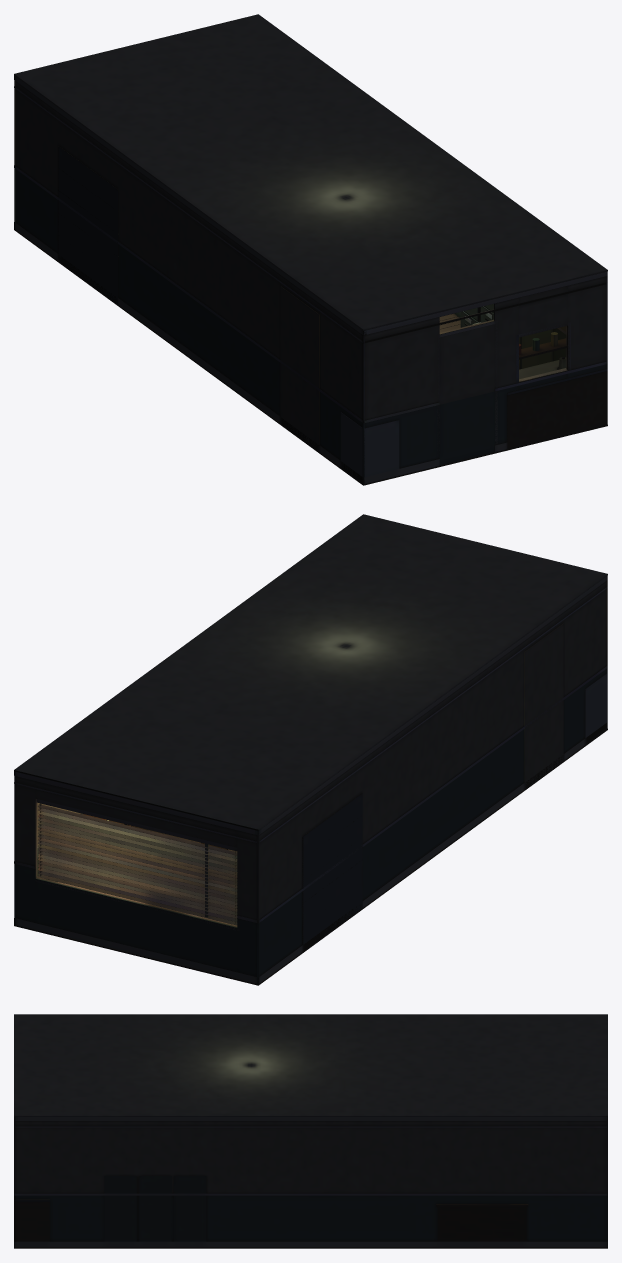
The model's file is office_kirishima.glb.
3 views of the same model, one above another, from view 1: azimuth 30°, elevation 25°; view 2: azimuth 150°, elevation 25°; view 3: azimuth 270°, elevation 25° (orthographic). The views are drawn at different scales.
Visible parts, largest first — view 1: office_kopo201; view 2: office_kopo201; view 3: office_kopo201.
Boxes of the visible parts, x1,y1,x2,y2 form: office_kopo201: (14,14,607,485); office_kopo201: (14,514,607,985); office_kopo201: (14,1014,607,1248).
Bounding box in the file's own units: 4.03 × 2.44 × 9.9.
Materials: 1 (1 with a texture image).
